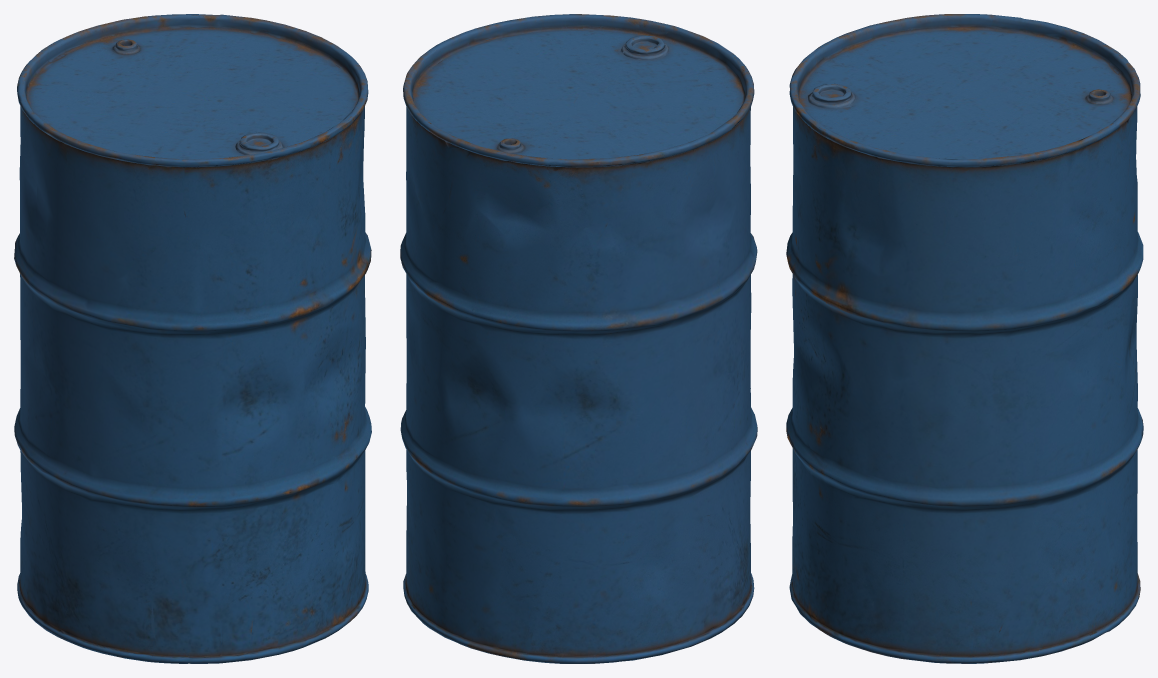
File: fut.glb
The picture shows the model from 3 angles, left to right: view 1: azimuth 30°, elevation 25°; view 2: azimuth 150°, elevation 25°; view 3: azimuth 270°, elevation 25°; orthographic projection.
Bounding box in the file's own units: 1.22 × 1.9 × 1.22.
1 material, 1 textured.
